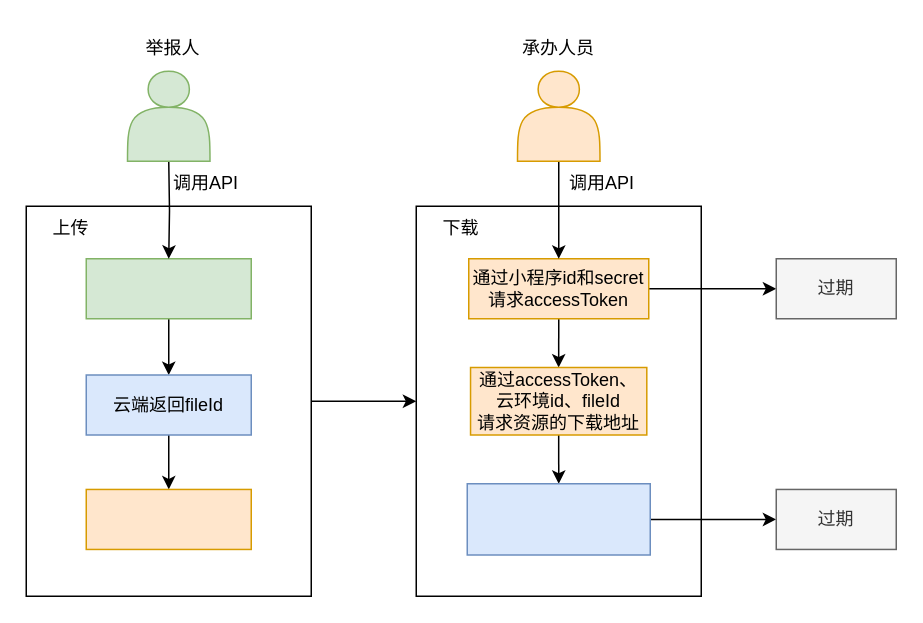
The diagram is 923 pixels wide and 623 high, and some of its shapes have lost their labels. Here are the shapes that lost their labels. From the top down, the box of each, then its label:
(85, 257, 251, 319): 小程序端上传附件
(85, 488, 251, 549): 服务端保存fileid
(466, 482, 650, 555): 云端返回下载地址
